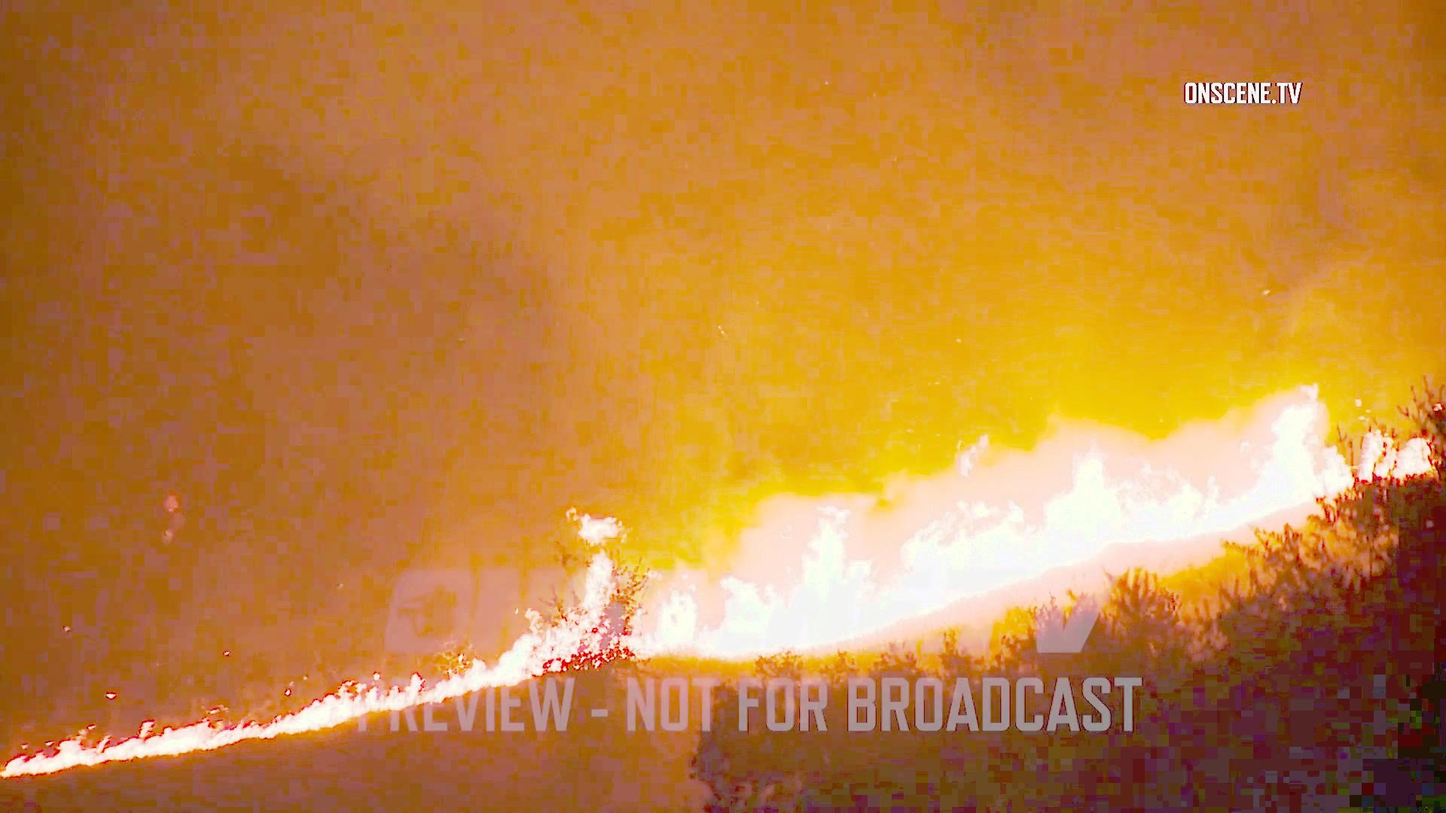fire: (904, 452, 1196, 618), (697, 484, 873, 655), (1233, 401, 1360, 515)
smoke: (584, 17, 1141, 396)
